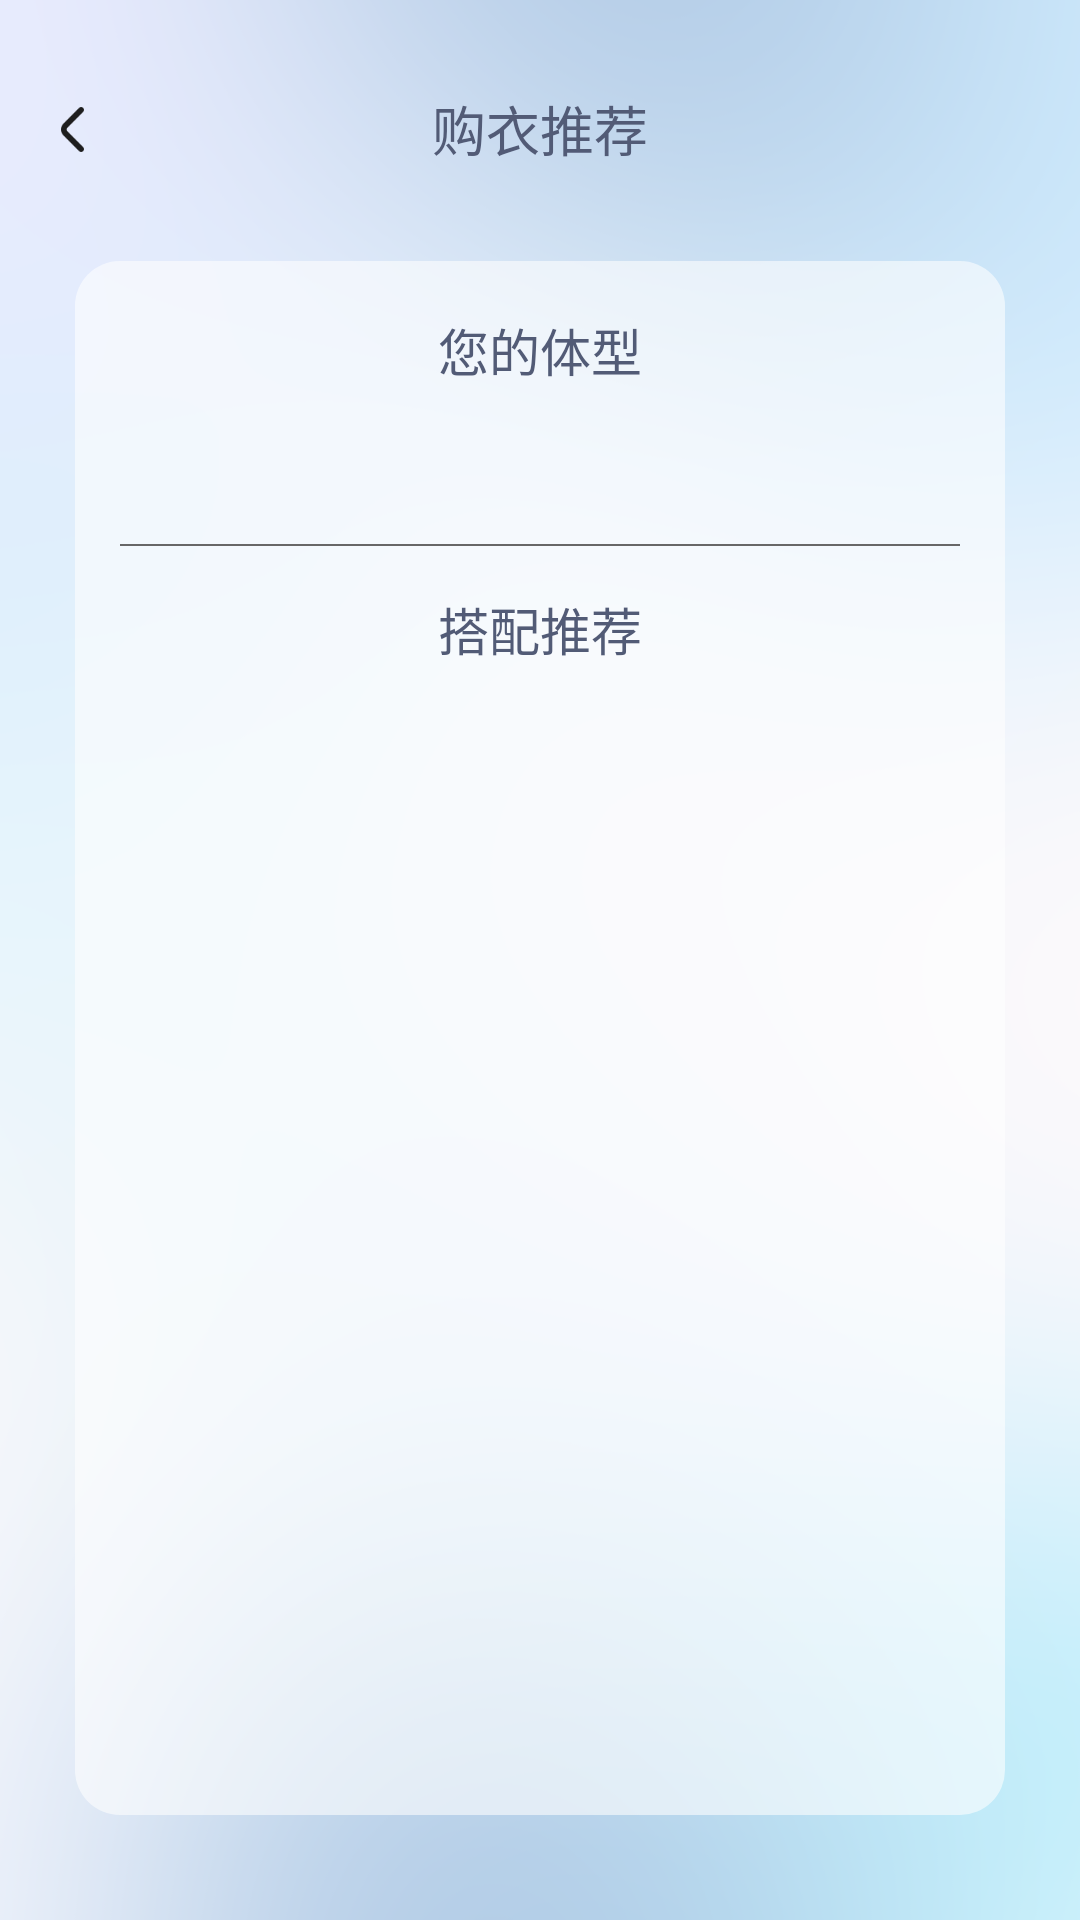

Point at icon controls on the screen. Image size 1080 × 1920, points as (x=x, y=y).
back: (x=72, y=129)
